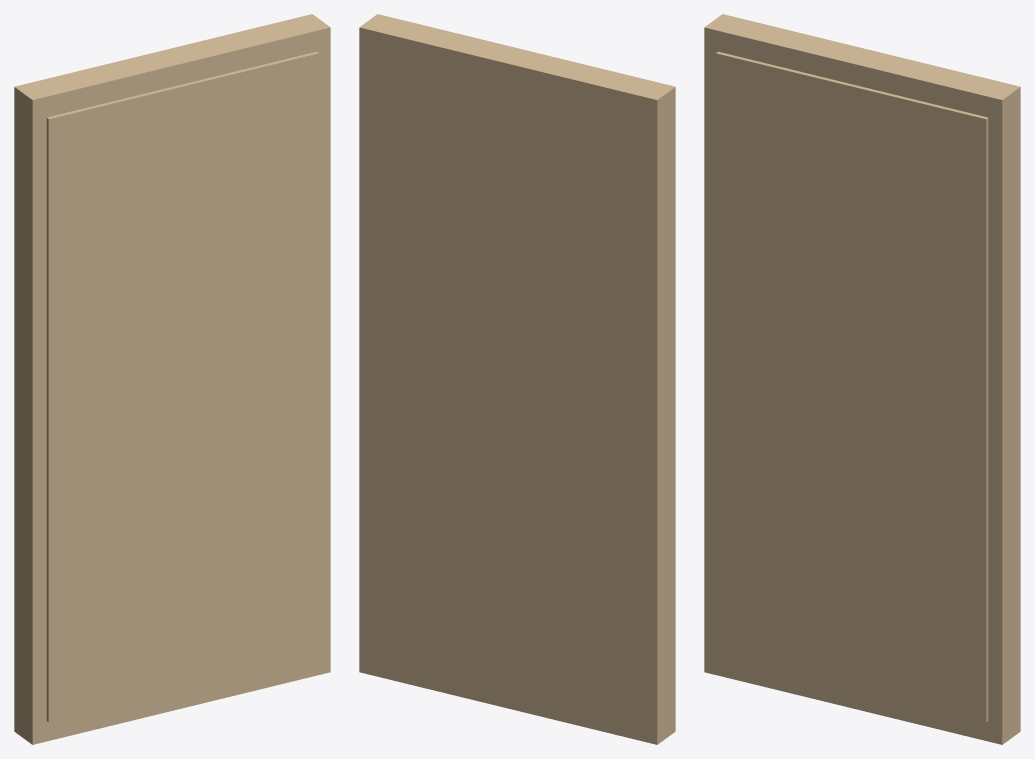
File: e_phone_gold.glb
3 renders of one model, left to right at view 1: azimuth 30°, elevation 25°; view 2: azimuth 150°, elevation 25°; view 3: azimuth 330°, elevation 25°, orthographic.
Visible parts, largest first — view 1: e_phone_gold; view 2: e_phone_gold; view 3: e_phone_gold.
Part boxes in pixels (x1,y1,x2,y2): e_phone_gold: [14, 14, 330, 744]; e_phone_gold: [359, 14, 675, 744]; e_phone_gold: [704, 14, 1020, 744].
Size of the model in its own units: 0.075 by 0.155 by 0.009.
